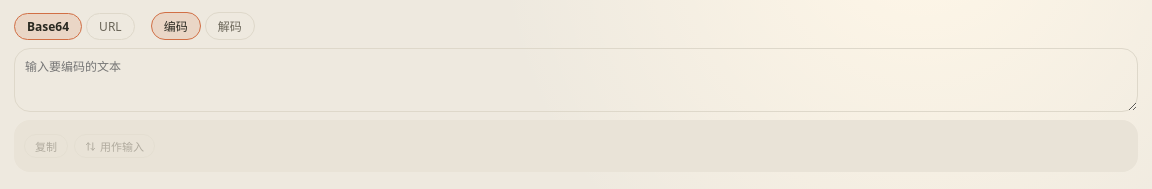
Test: ConverterPane 编码页 › 切到 URL 格式后按 URL 编码
Type "a b" into the text box with placeholder "输入要编码的文本" at (576, 80), box [14,48,1138,112]
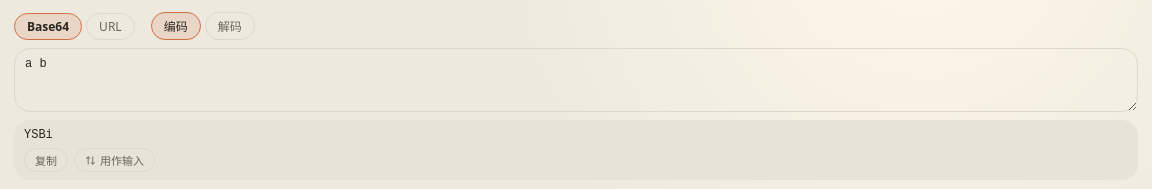
Click the button "URL" at (110, 26), box [86,12,135,40]
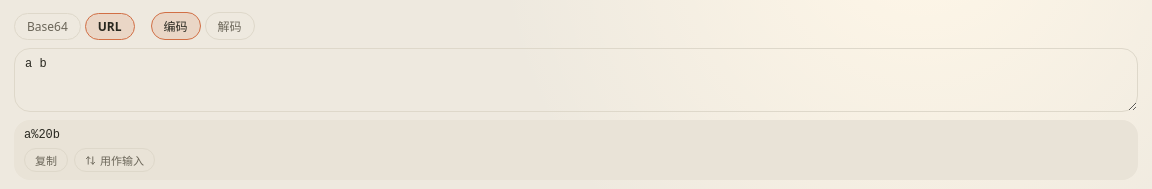
Expected: the text "a%20b" is shown, [24,128,60,142]
